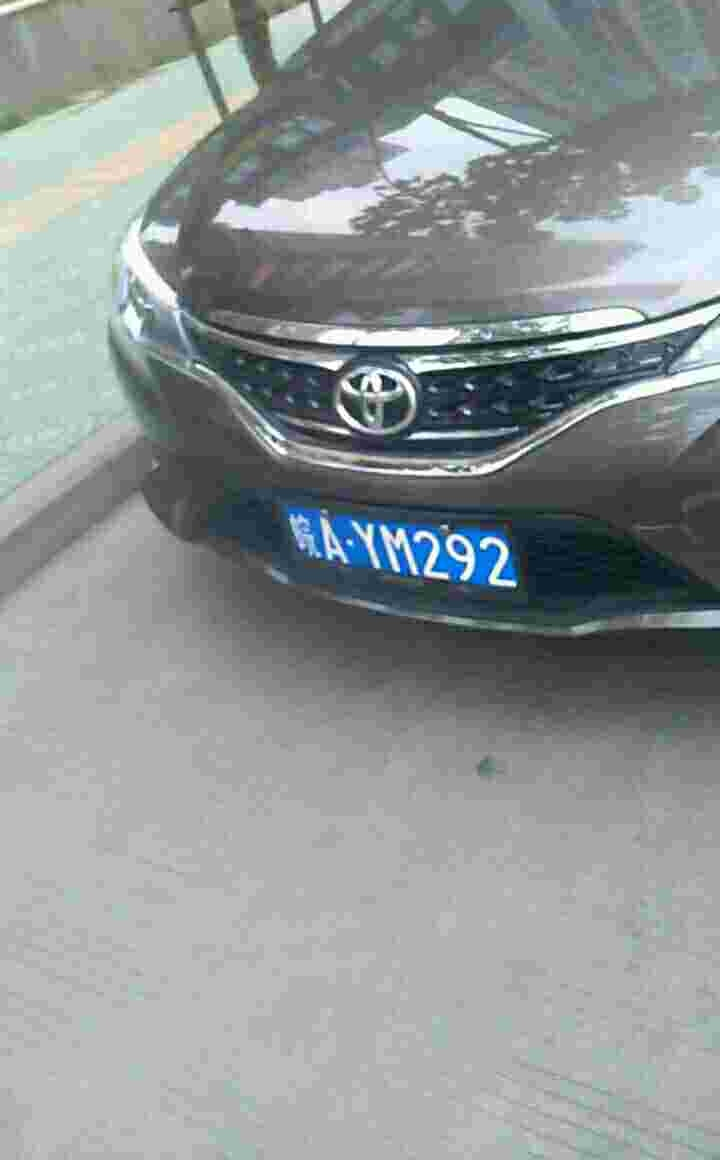license_plate: (289, 504, 505, 588)
